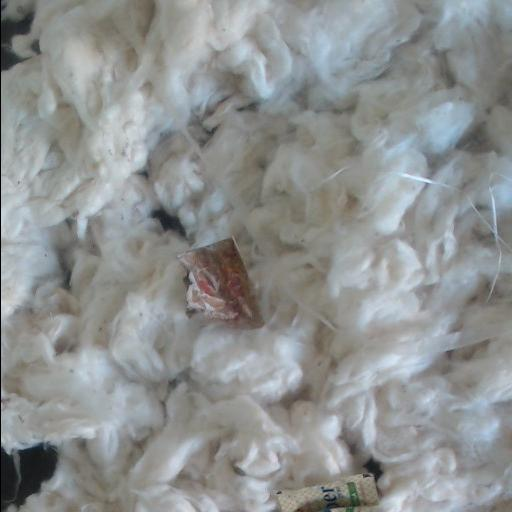cotton: (1, 0, 512, 511)
packet: (178, 239, 262, 329), (276, 474, 379, 511)
thread: (487, 188, 503, 300), (395, 172, 451, 187), (325, 168, 347, 181)
